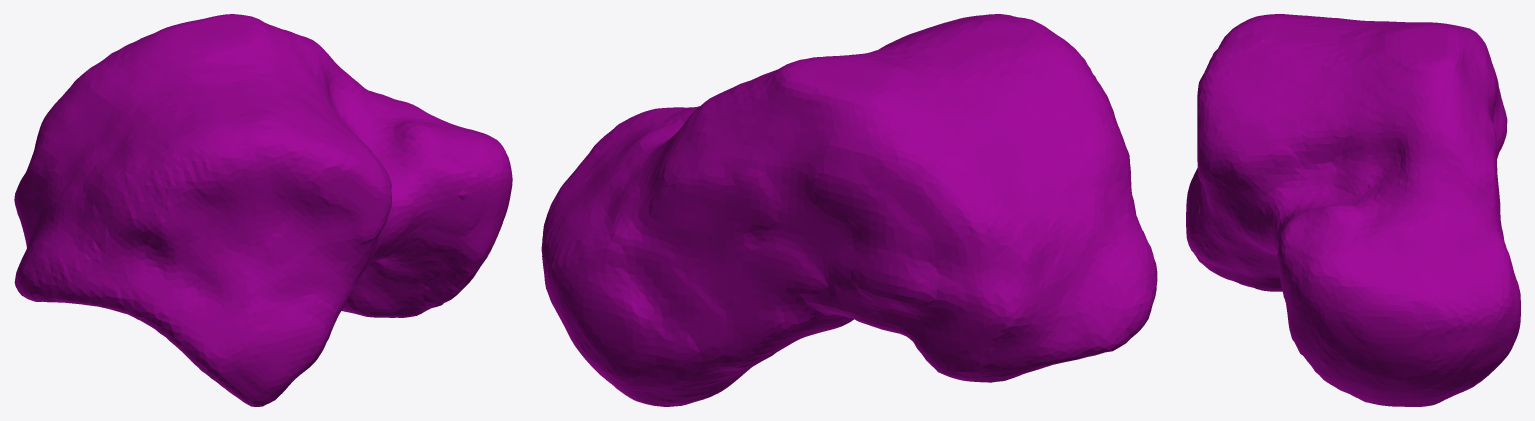
The model's file is Talus--3-remesh-21K-smooth.fbx.
3 renders of one model, left to right at view 1: azimuth 30°, elevation 25°; view 2: azimuth 150°, elevation 25°; view 3: azimuth 270°, elevation 25°, orthographic. The views are drawn at different scales.
Visible parts, largest first — view 1: node_id39; view 2: node_id39; view 3: node_id39.
Part boxes in pixels (x1,y1,x2,y2): node_id39: [14, 14, 512, 406]; node_id39: [541, 14, 1157, 406]; node_id39: [1186, 14, 1520, 406].
Bounding box in the file's own units: 0.78 × 0.4876 × 0.512.
1 material, 1 textured.
